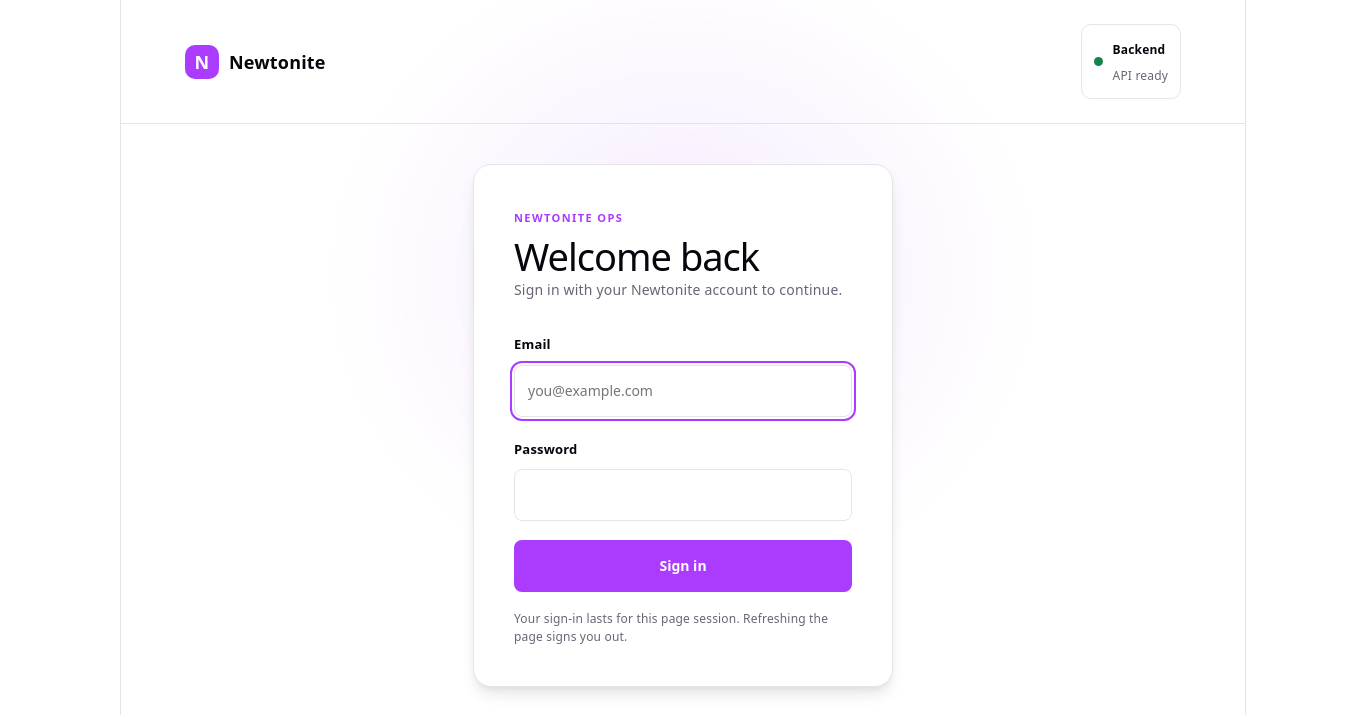
Test: work-item list and creation › shows a safe server validation error while preserving creation input
In the field labelled "Email": (683, 391) [514,365,852,417], type "morgan@example.test"
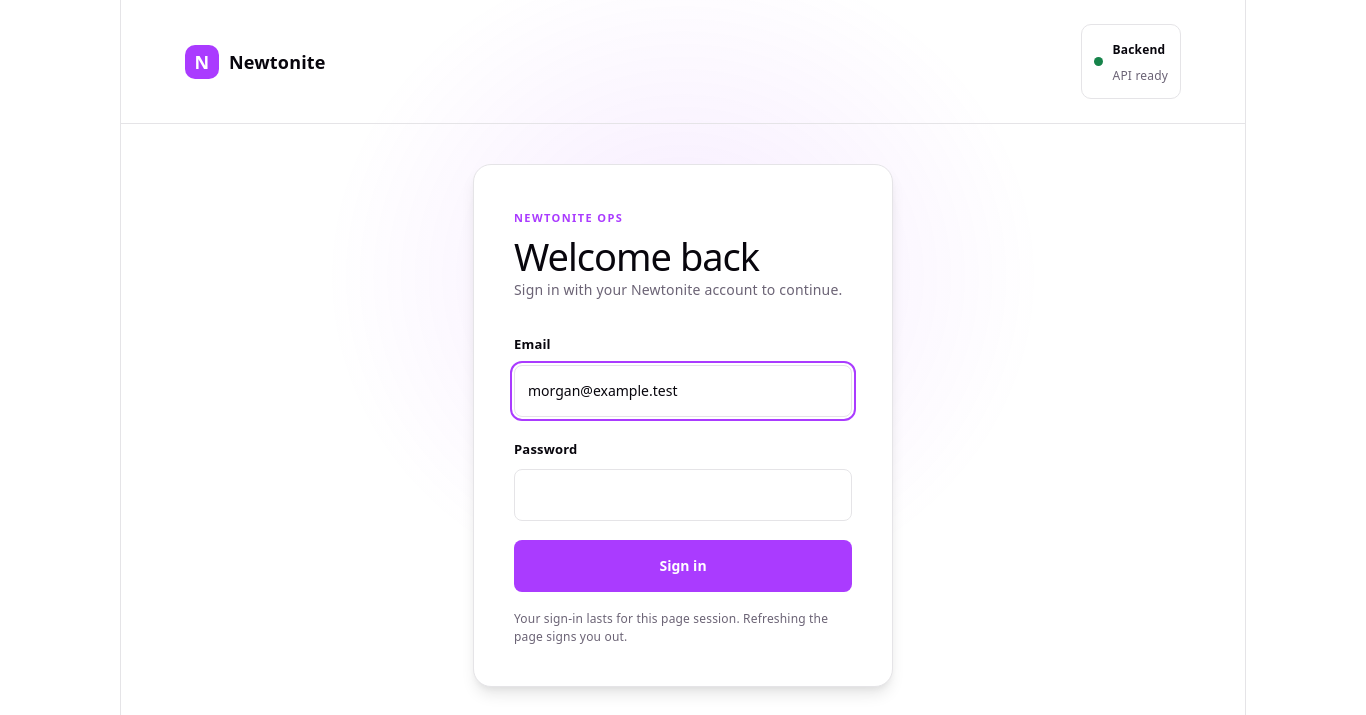
In the password field labelled "Password": (683, 495) [514,469,852,521], type "safe-test-password"
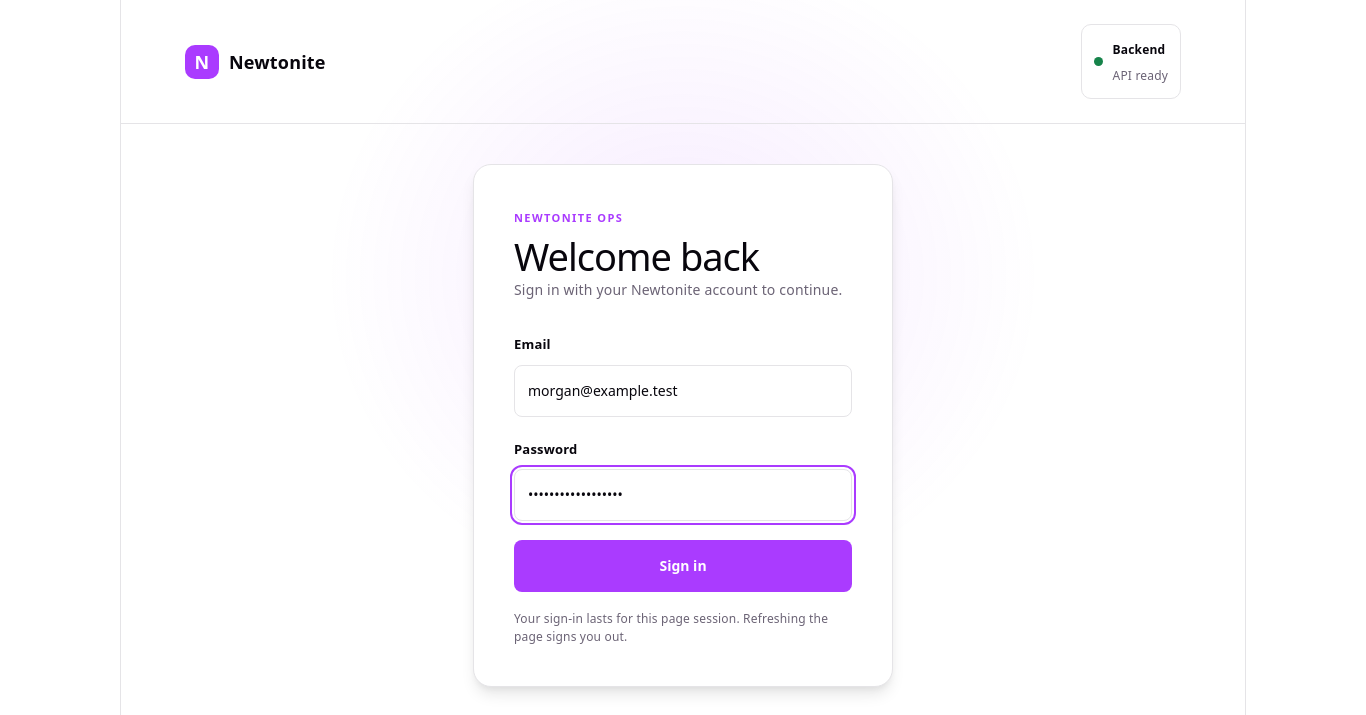
Click the button "Sign in": click(683, 566) [514,540,852,592]
(page scrolled)
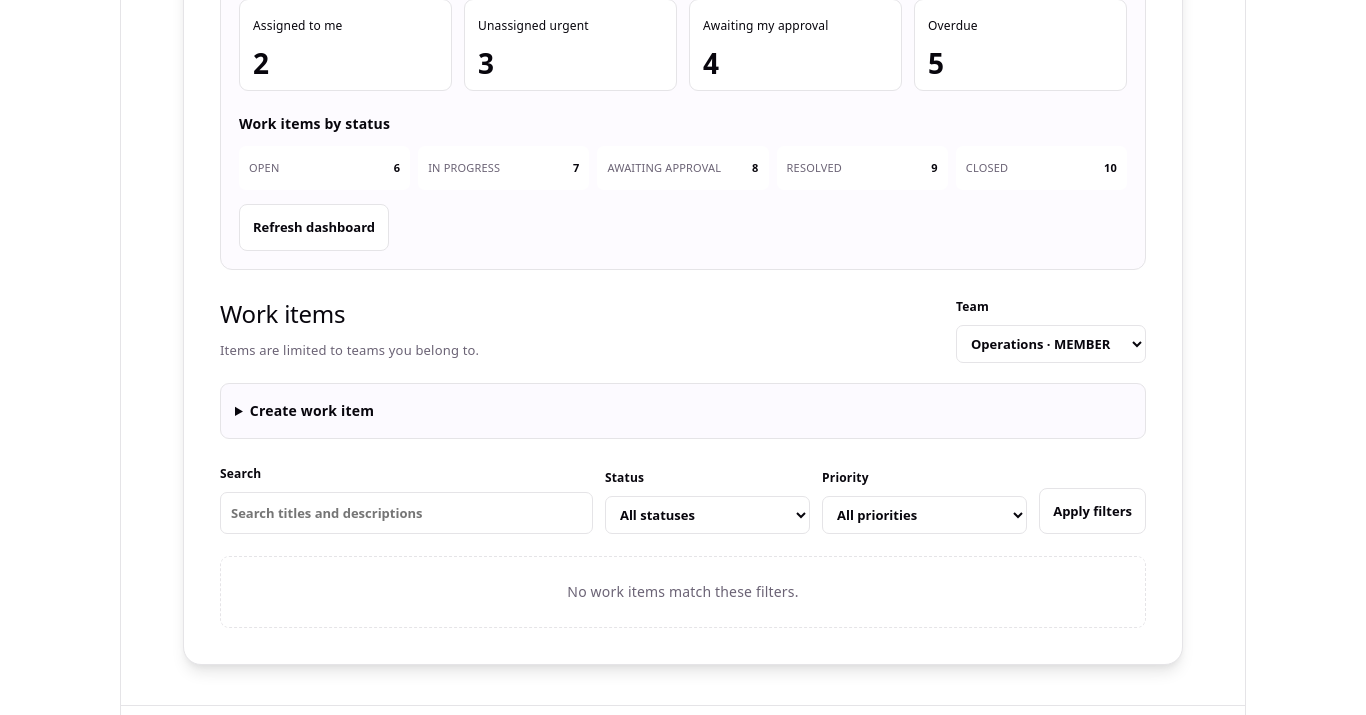
Click the heading "Create work item": click(312, 410) [250,401,374,420]
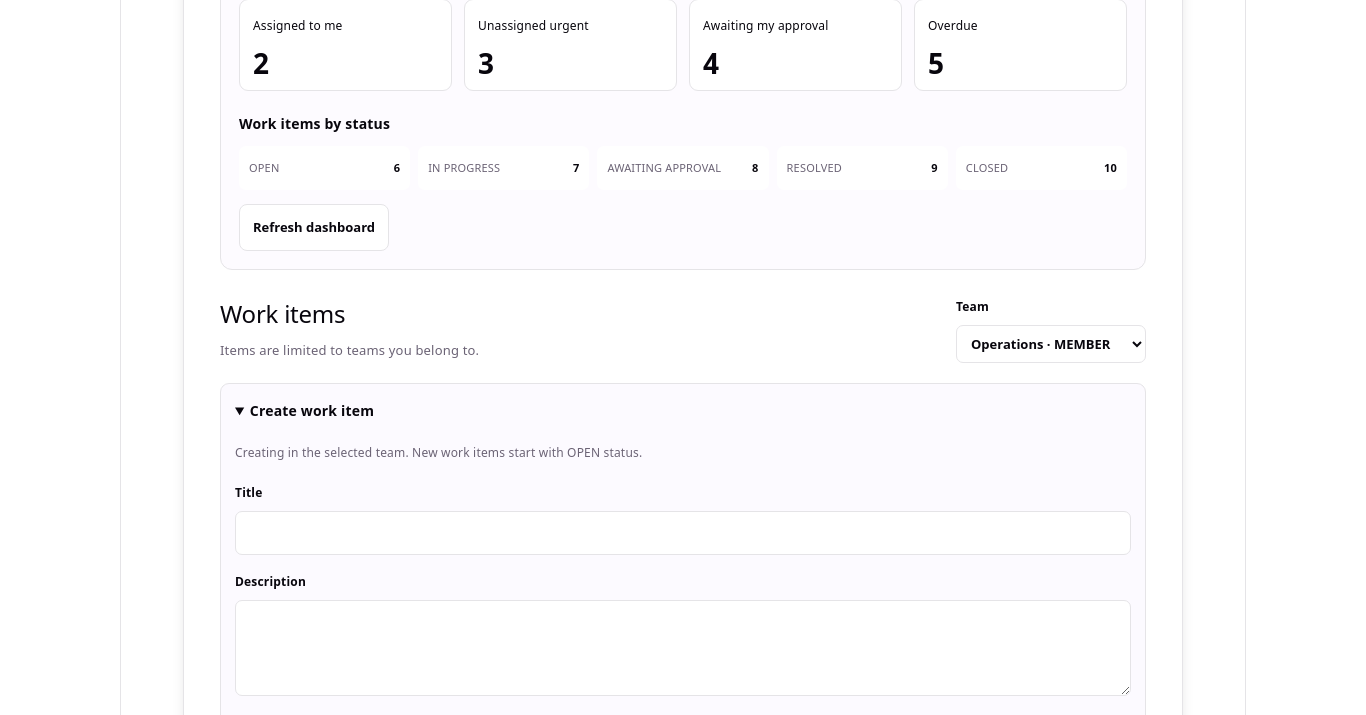
In the field named "New work-item title": (683, 533) [235,511,1131,555], type "Keep this new item"
(page scrolled)
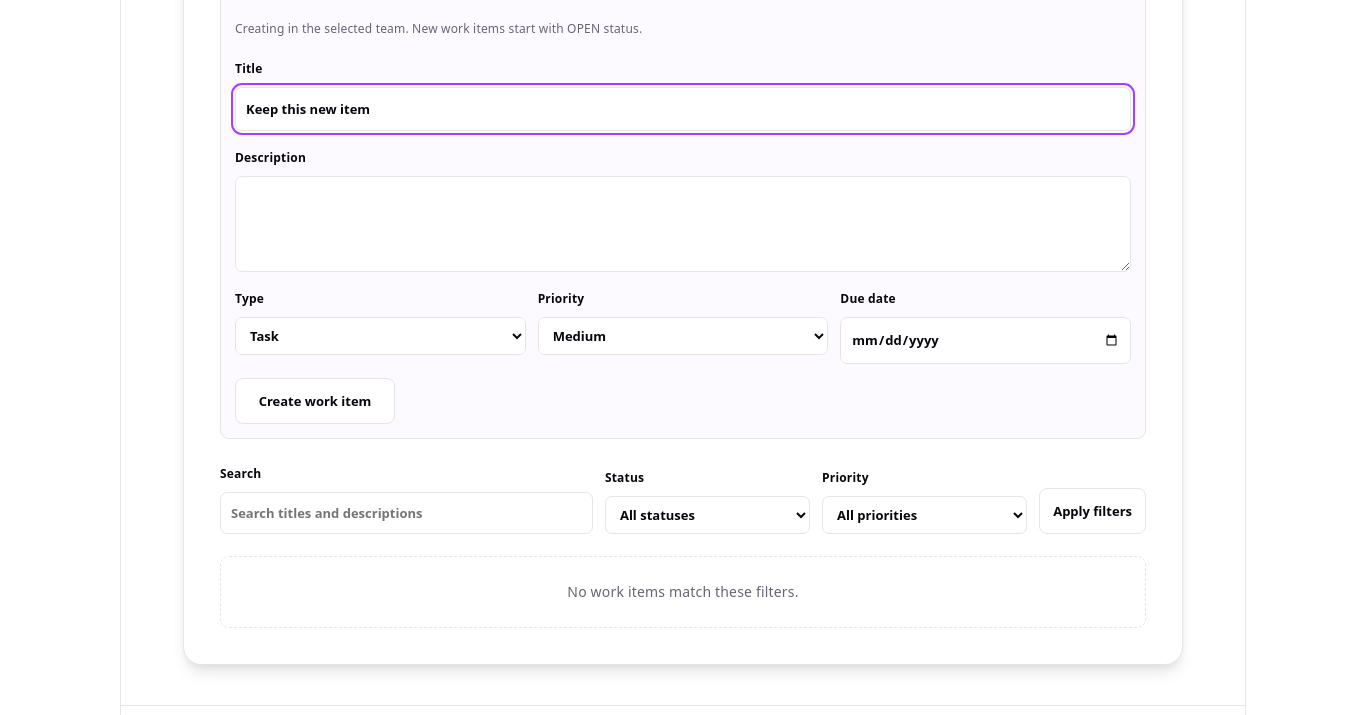
Click the button "Create work item": click(315, 401) [235,378,395,424]
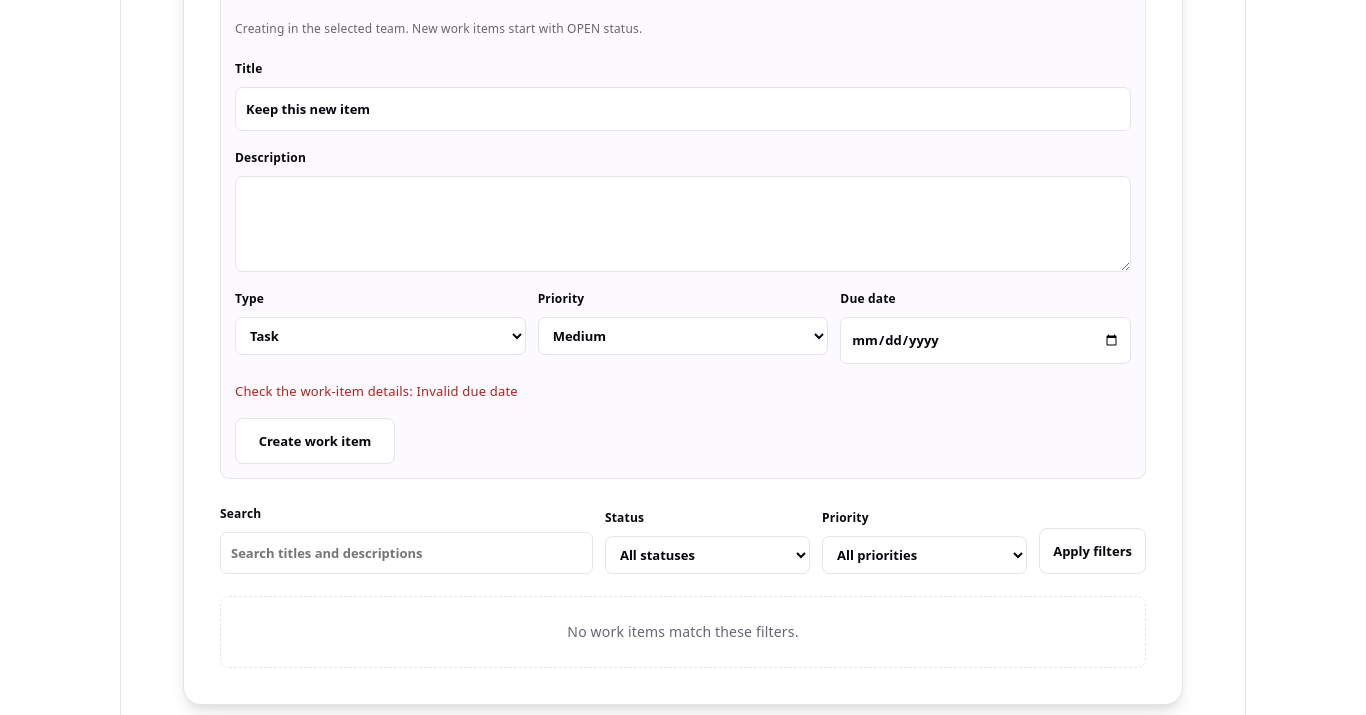
Expected: the text "Check the work-item details: Invalid due date" is shown, [235,382,518,400]
